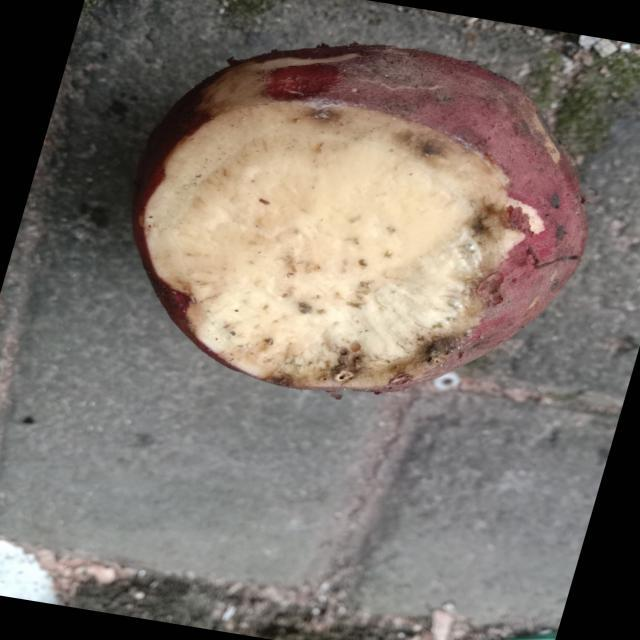Sick Sweet Potato_Tuber Rot: (142, 102, 523, 390)
